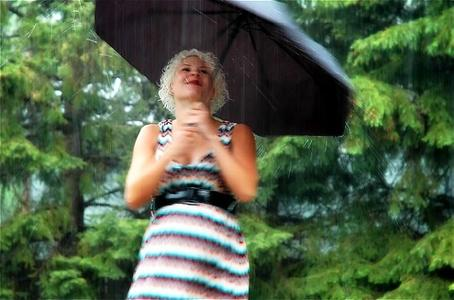person: (124, 50, 259, 300)
